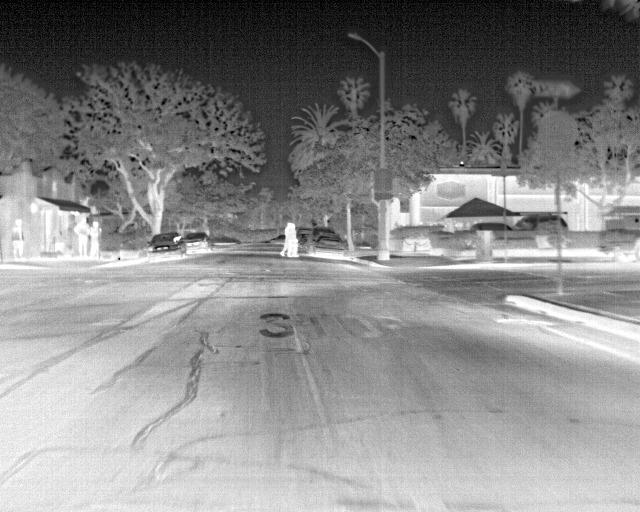bicycle: (146, 230, 188, 260), (513, 213, 568, 230), (305, 226, 336, 253), (314, 237, 346, 259), (181, 232, 212, 253), (470, 222, 516, 235)
empty: (8, 217, 26, 259), (73, 216, 91, 256), (88, 219, 103, 256), (286, 222, 301, 258), (277, 221, 292, 257)
